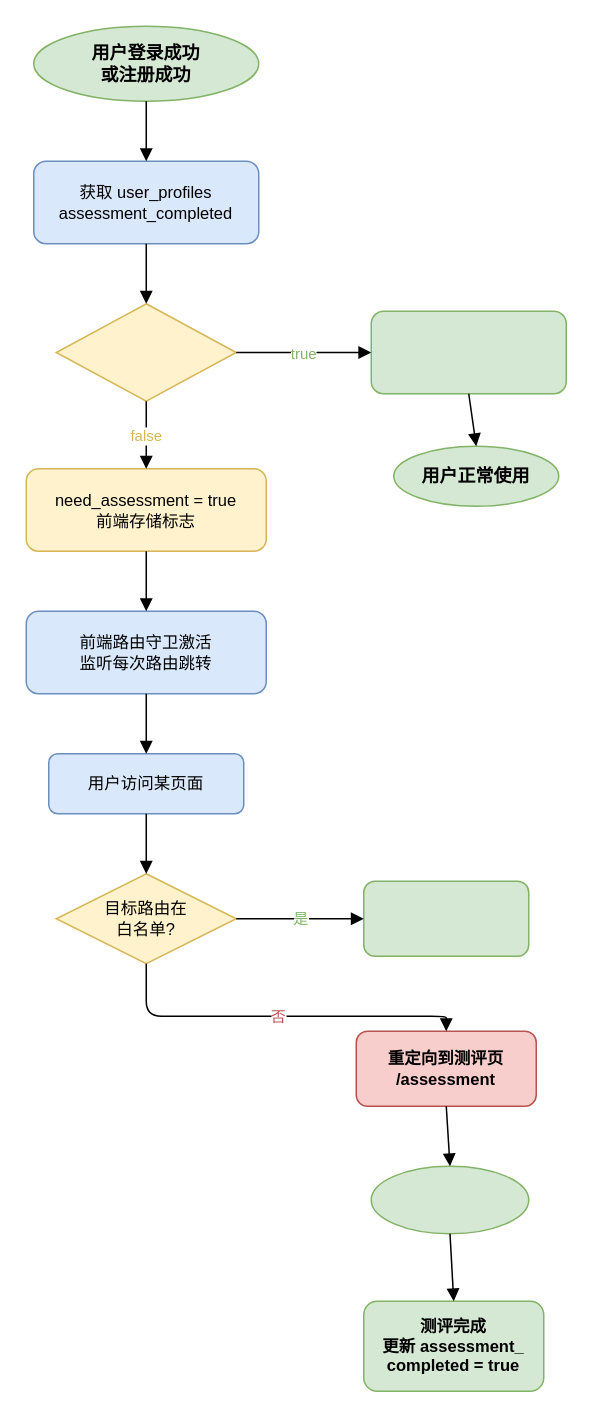
The diagram is 593 pixels wide and 1418 high, and some of its shapes have lost their labels. The shapes that lost their labels are listed below. From the top down, each one's box as (x1, y1, x2, y2) in pixels, then its label:
(55, 302, 236, 401): assessment_ completed?
(370, 310, 566, 394): 正常放行 进入首页/目标页
(362, 880, 529, 956): 放行 （白名单路由）
(370, 1165, 529, 1234): 进入测评页 （模块2）
